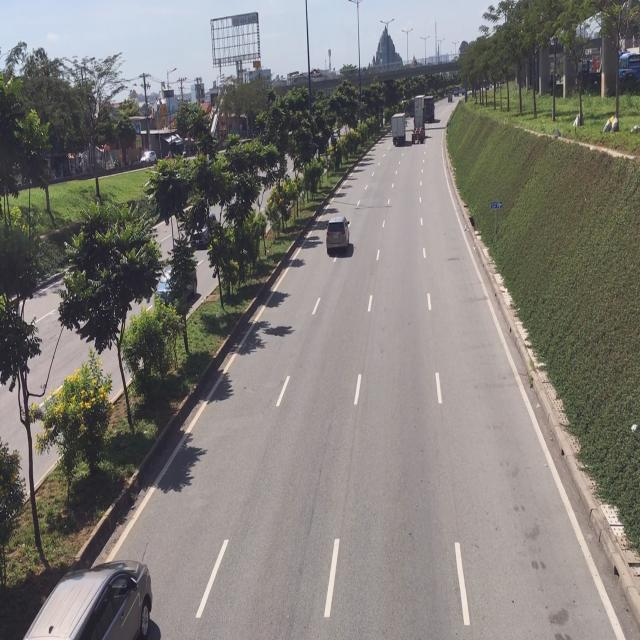car: (22, 559, 156, 640), (325, 213, 352, 260)
truck: (391, 114, 407, 146)
